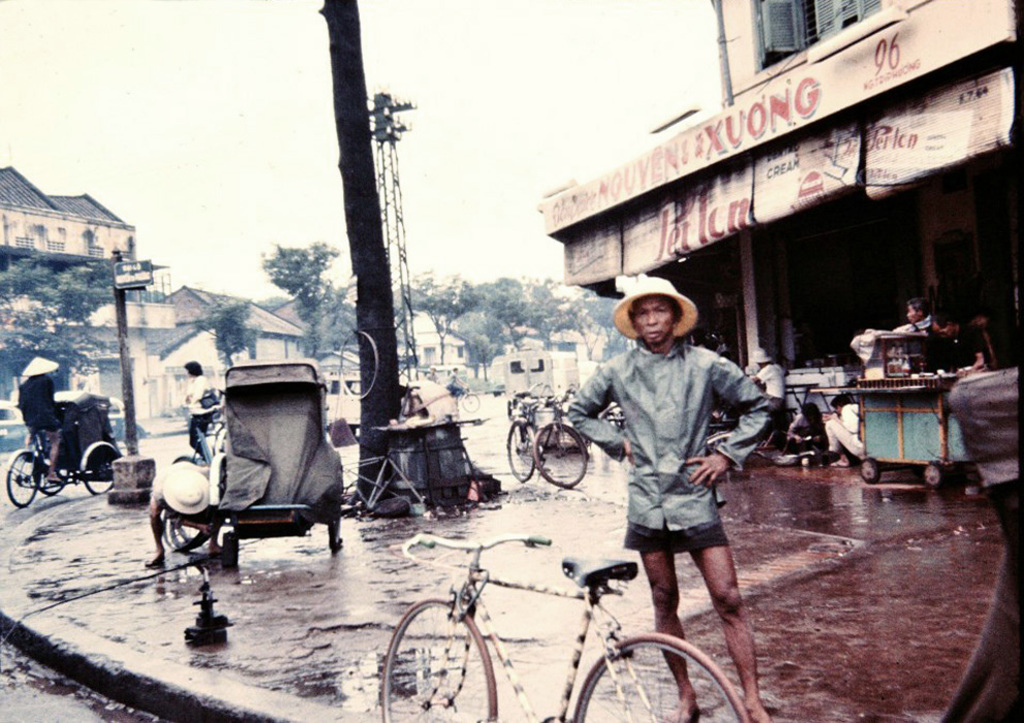Bicycle: (378, 530, 751, 721), (530, 379, 588, 491), (506, 392, 541, 483), (452, 383, 481, 411)
